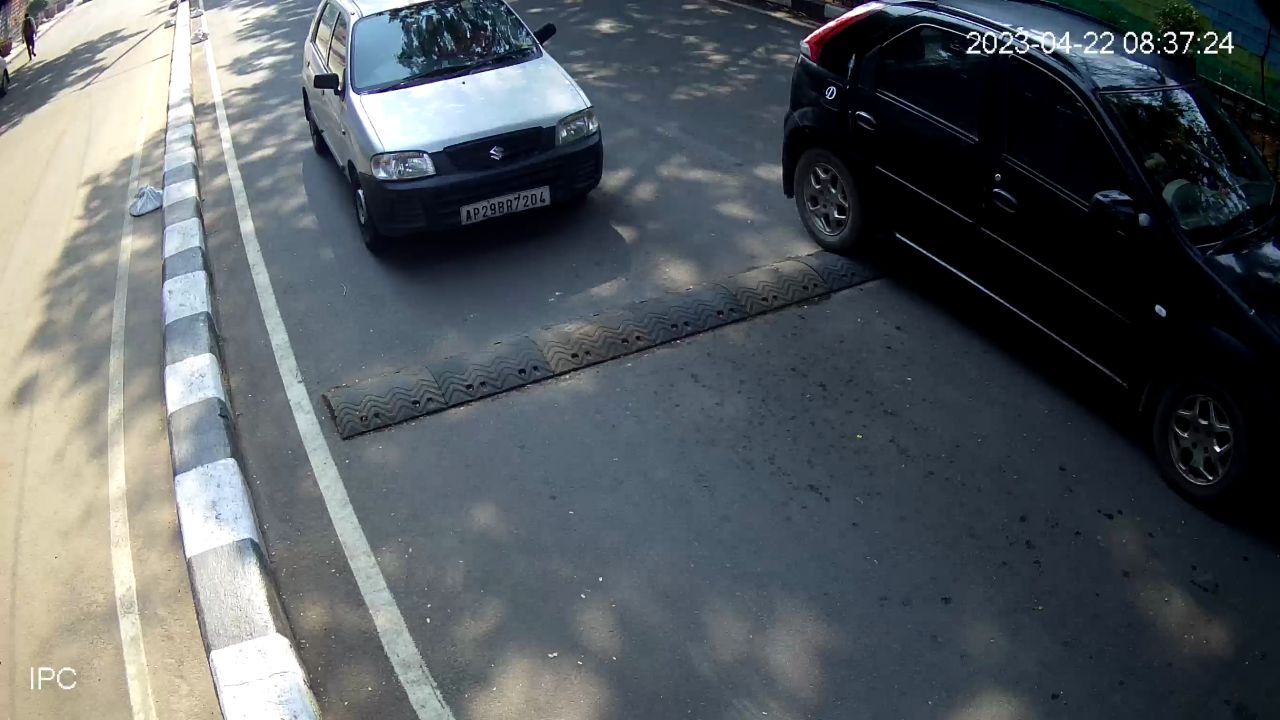license_plate: (457, 181, 552, 230)
